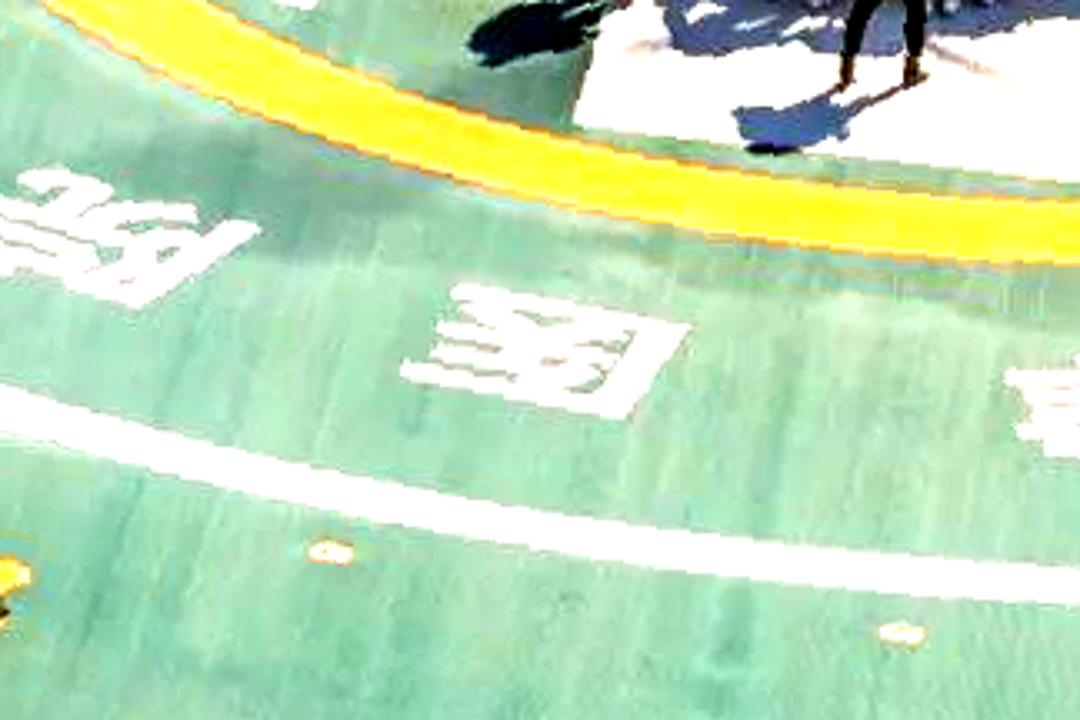Apron: (33, 1, 1080, 267)
